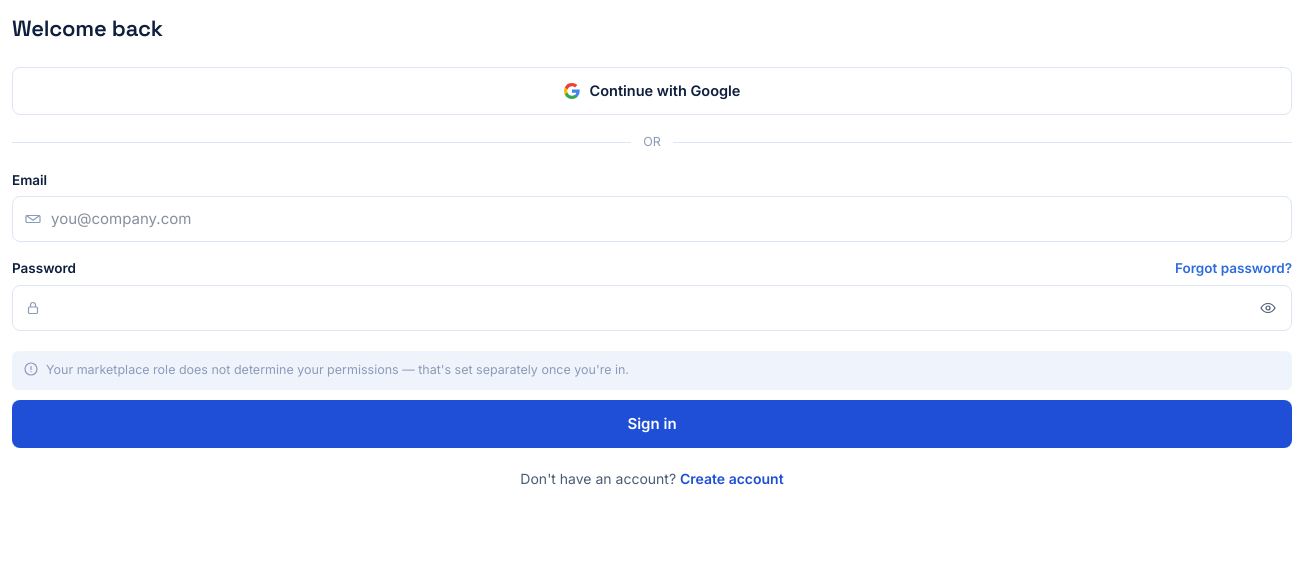
it: Regression: registered users are not sent to Sign-up › email linked to an account under another sign-in: specific error, no Sign-up redirect
Step 1. Type "a@example.com" into the field labelled "Email" → (652, 219), box [12,196,1292,242]
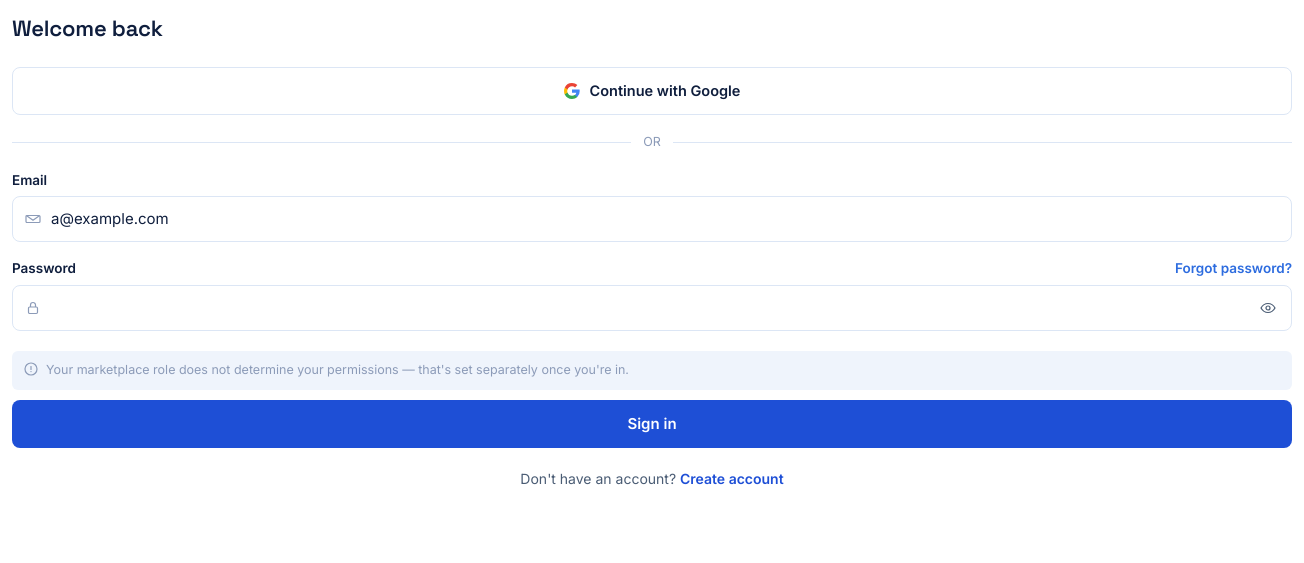
Step 2. Type "correct-horse" into the password field labelled "Password" → (652, 308), box [12,284,1292,331]
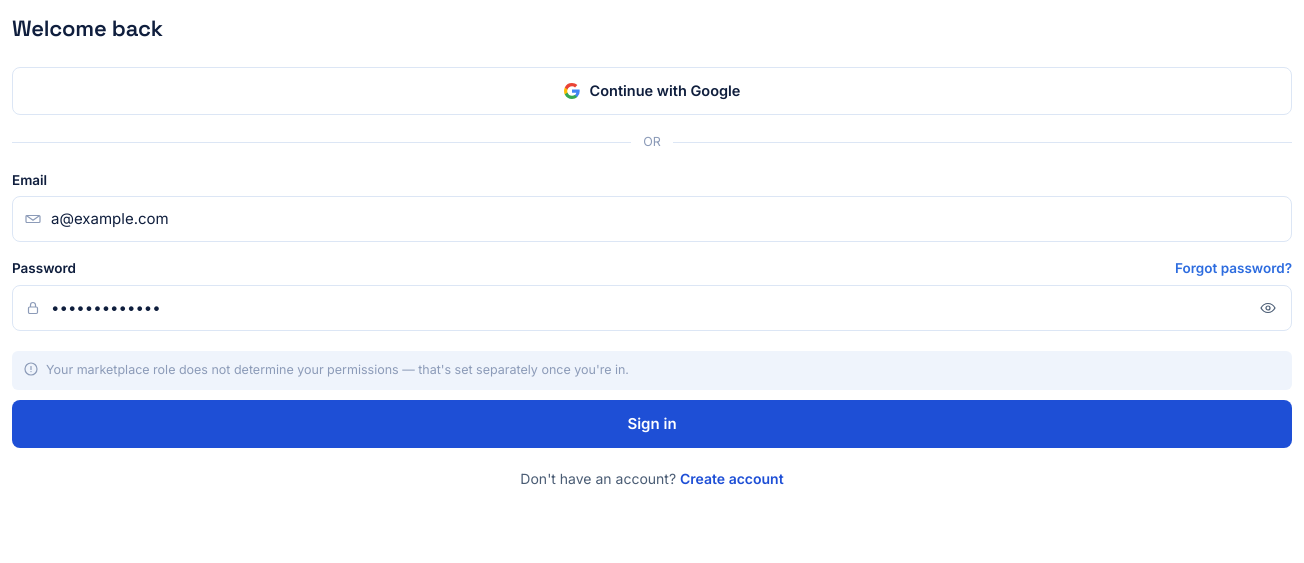
Step 3. Click the button "Sign in" → (652, 424), box [12,400,1292,448]
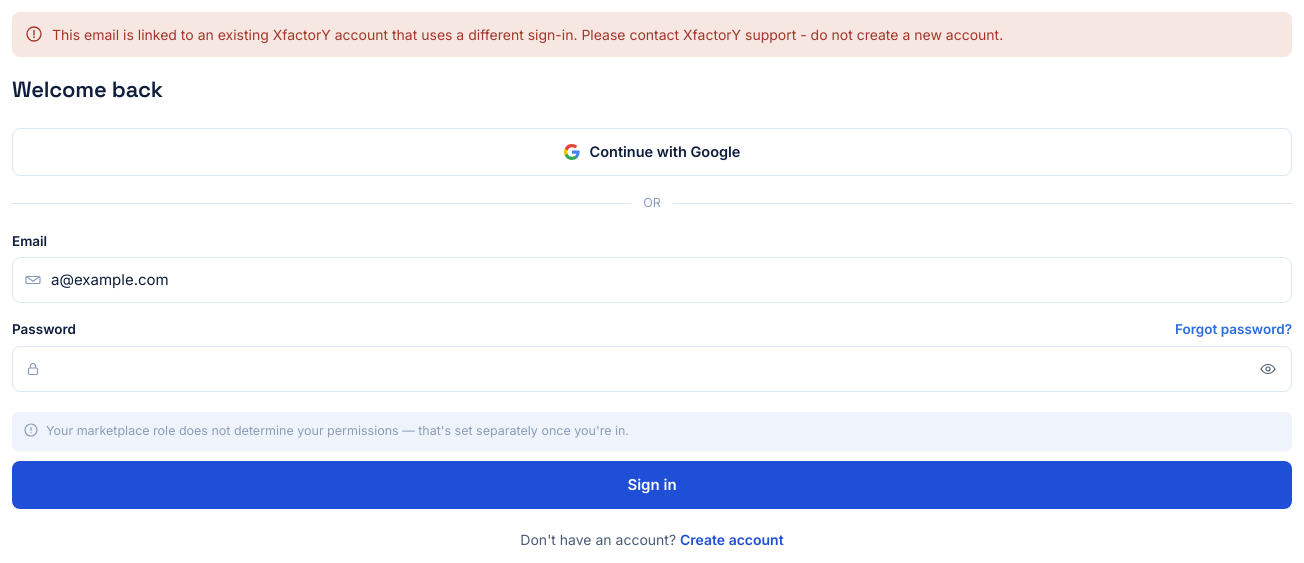
Expected: the text "linked to an existing XfactorY account that uses a different sign-in" is shown, [52,26,1003,43]
